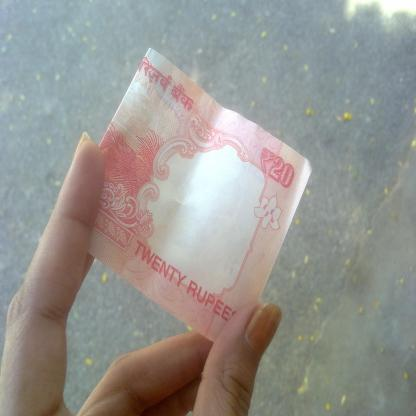Old20Back: (76, 69, 302, 320)
